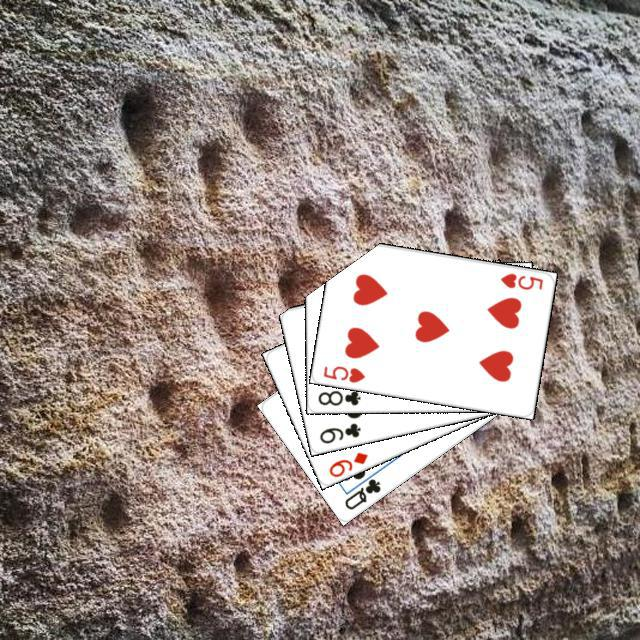5h: (318, 361, 367, 384), (496, 268, 545, 291)
8c: (313, 386, 362, 407)
9c: (315, 418, 362, 445)
9d: (324, 447, 370, 479)
Qc: (339, 466, 383, 512)
